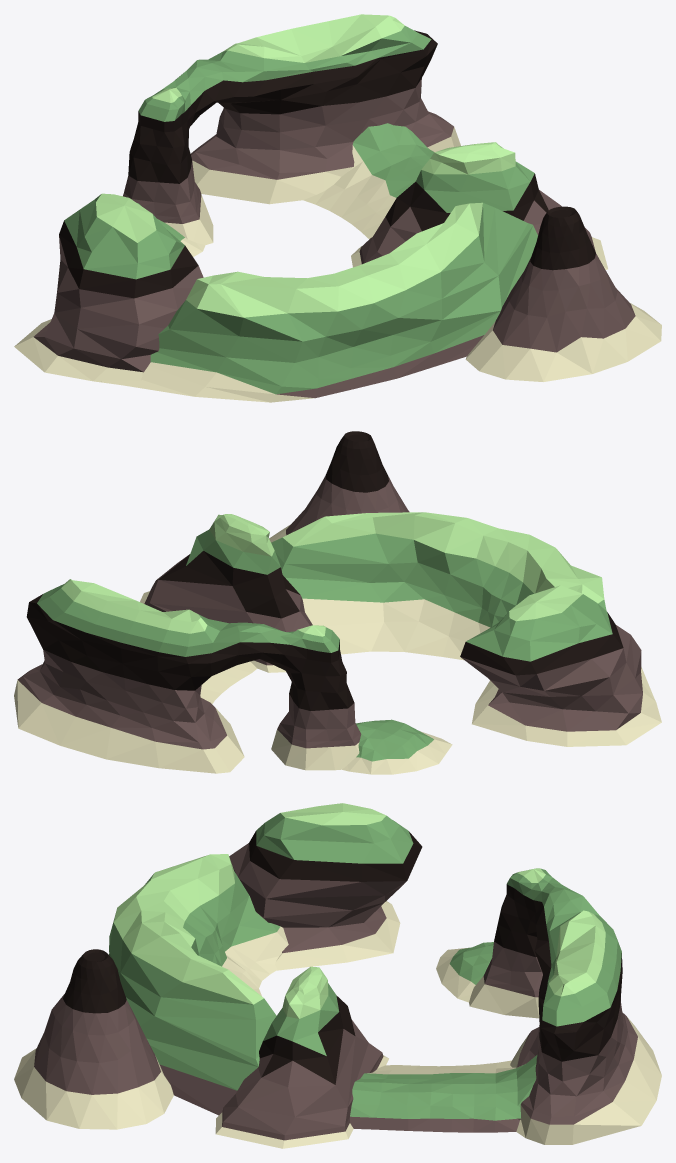
File: Island_V3.0.fbx
3 renders of one model, top to bottom at view 1: azimuth 30°, elevation 25°; view 2: azimuth 150°, elevation 25°; view 3: azimuth 270°, elevation 25°, orthographic. The views are drawn at different scales.
Parts seen in each view (by area): view 1: Valcano; view 2: Valcano; view 3: Valcano.
Boxes of the visible parts, x1=… form: Valcano: x1=14, y1=14, x2=661, y2=402; Valcano: x1=14, y1=431, x2=661, y2=774; Valcano: x1=14, y1=803, x2=661, y2=1148.
Bounding box in the file's own units: 6296 × 1496 × 6432.
